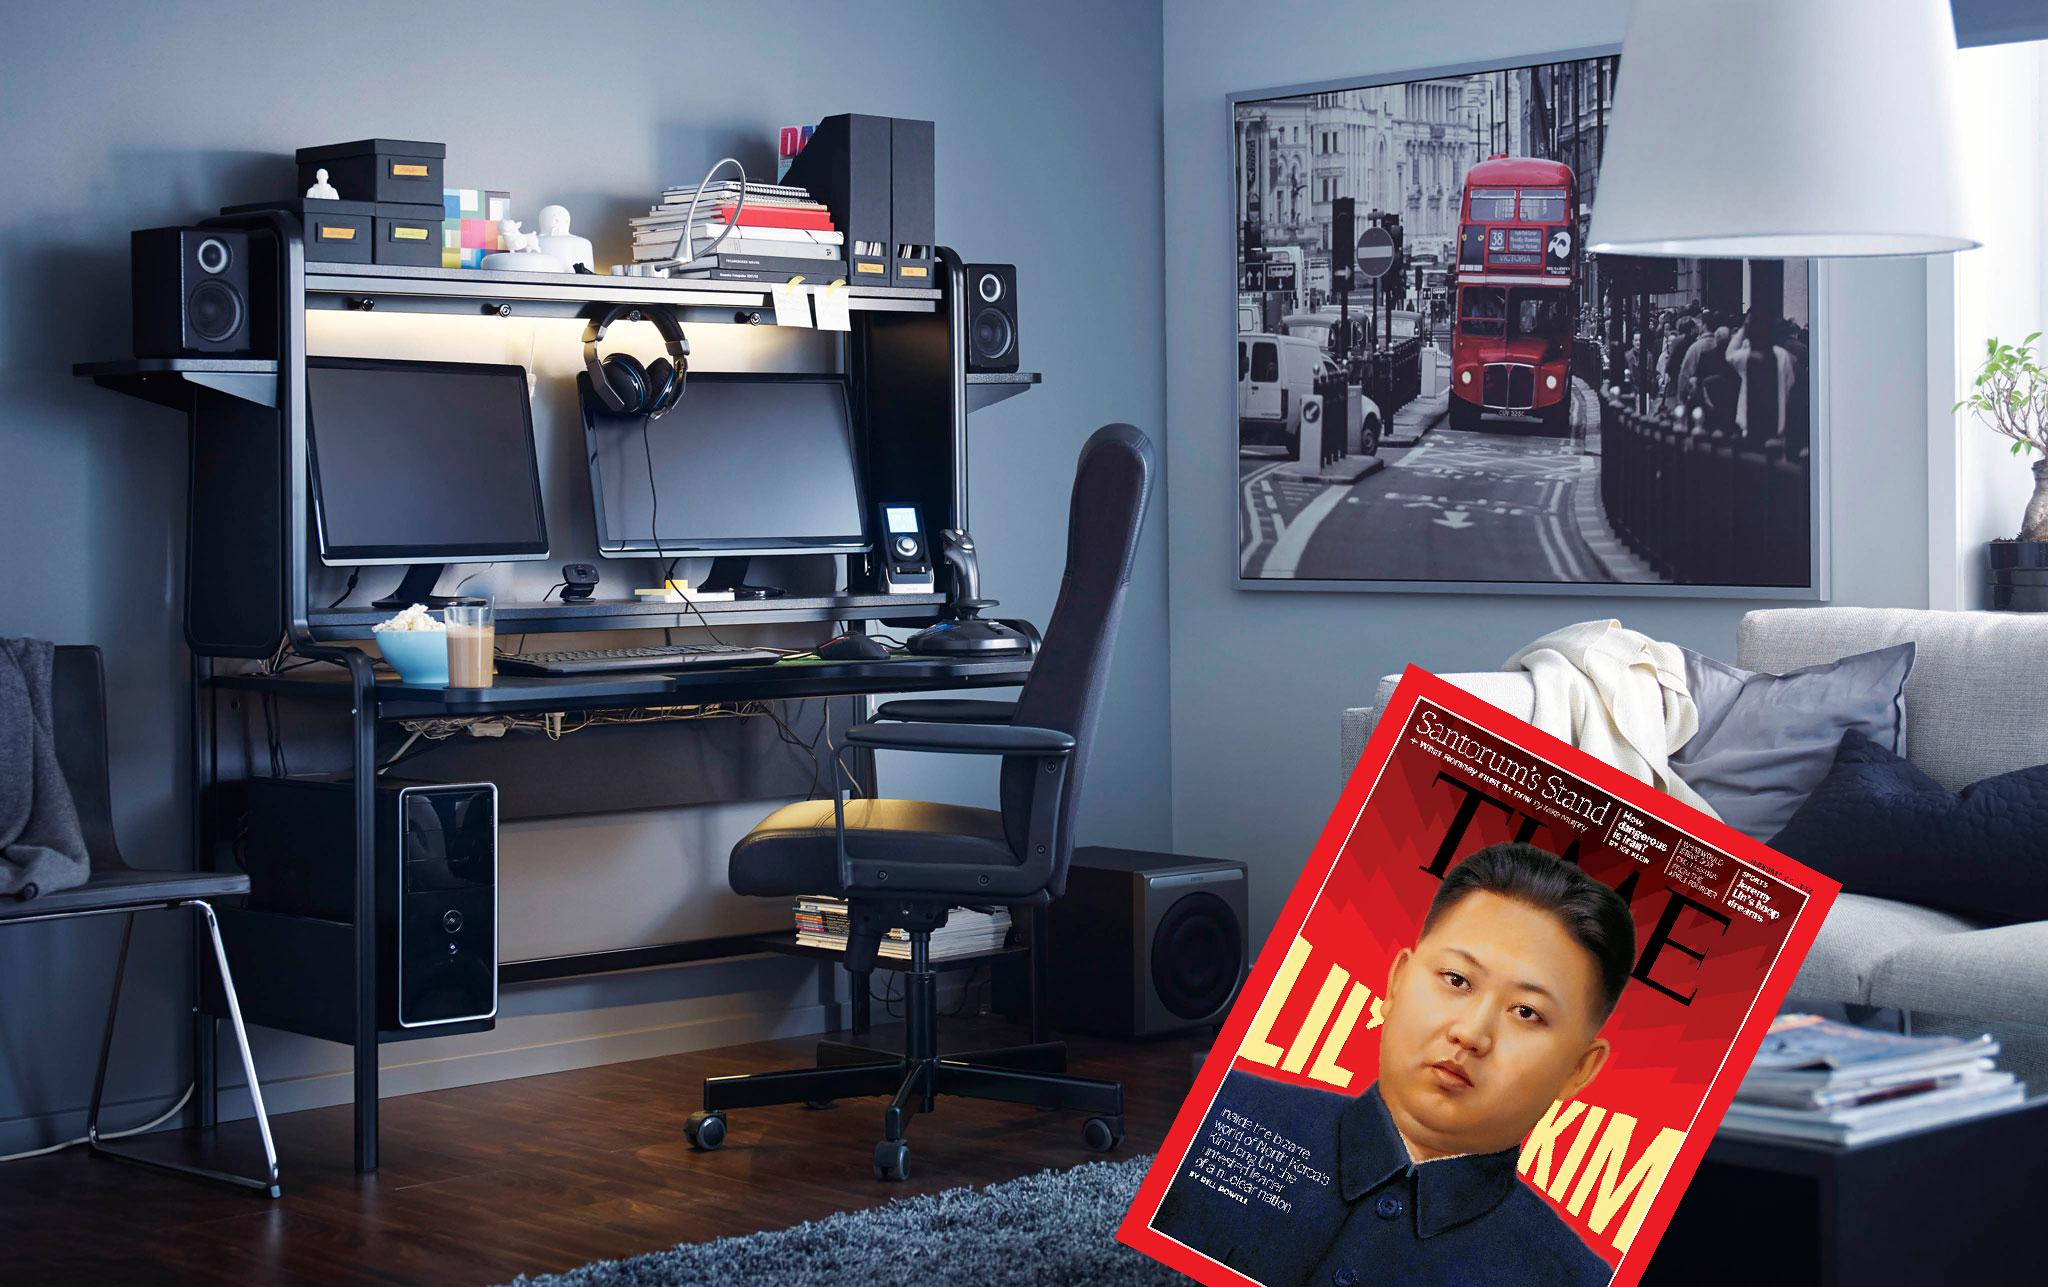times: (1106, 655, 1861, 1287)
